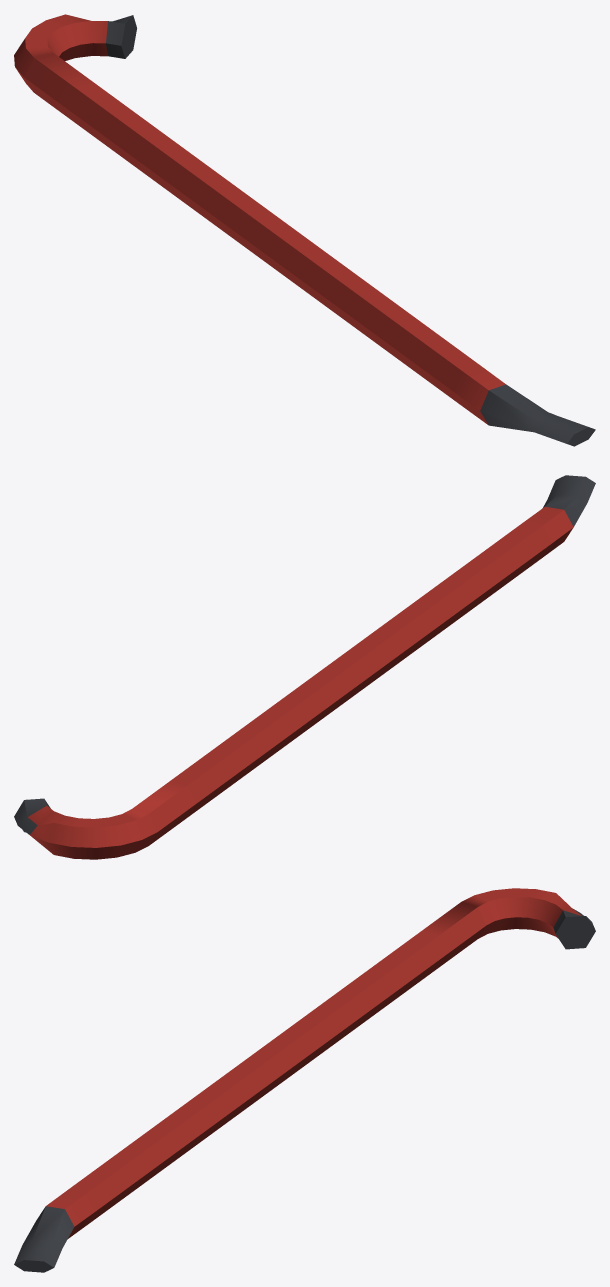
The model's file is crowbar.glb.
3 renders of one model, top to bottom at view 1: azimuth 30°, elevation 25°; view 2: azimuth 150°, elevation 25°; view 3: azimuth 330°, elevation 25°, orthographic. The views are drawn at different scales.
Visible parts, largest first — view 1: crowbar; view 2: crowbar; view 3: crowbar.
Part boxes in pixels (left/top/right/bottom): crowbar: left=14, top=14, right=595, bottom=446; crowbar: left=14, top=475, right=595, bottom=859; crowbar: left=14, top=888, right=595, bottom=1272.
Bounding box in the file's own units: 0.08 × 0.0199 × 0.5666.
